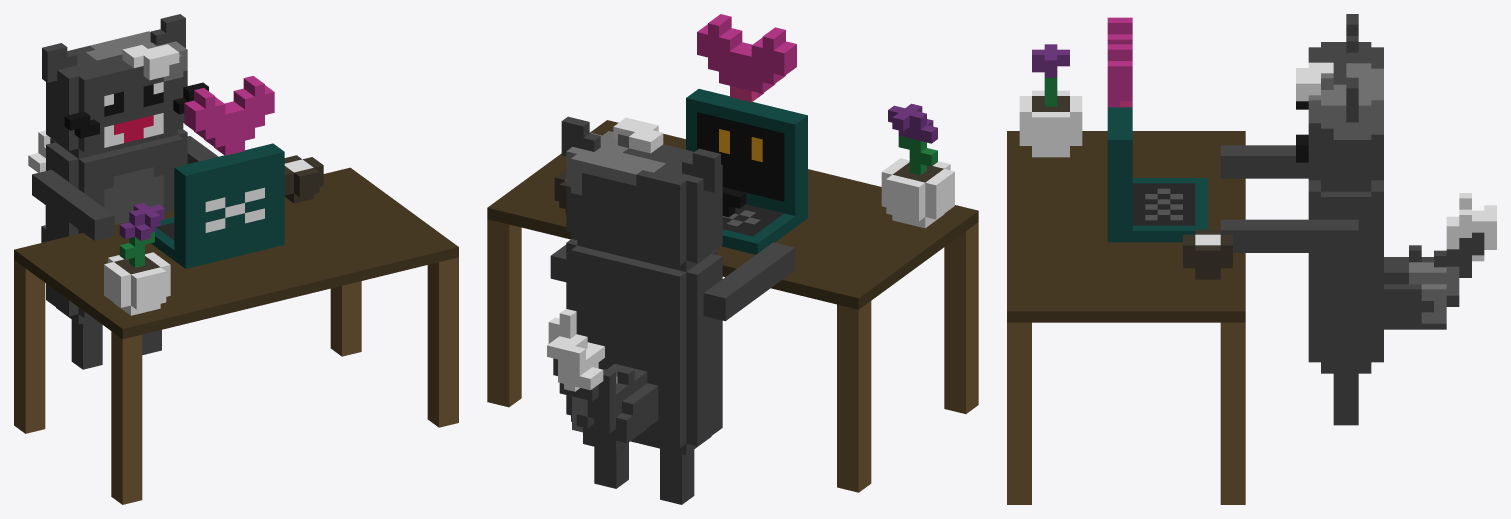
Rendered from CAT_FIRDO.glb.
The picture shows the model from 3 angles, left to right: view 1: azimuth 30°, elevation 25°; view 2: azimuth 150°, elevation 25°; view 3: azimuth 270°, elevation 25°; orthographic projection. The views are drawn at different scales.
Visible parts, largest first — view 1: ObjObject.002; view 2: ObjObject.002; view 3: ObjObject.002.
Boxes of the visible parts, x1,y1,x2,y2 form: ObjObject.002: [14, 14, 458, 504]; ObjObject.002: [487, 14, 978, 504]; ObjObject.002: [1007, 14, 1496, 504].
Size of the model in its own units: 5.01 by 4.86 by 5.74.
1 material, 1 textured.
